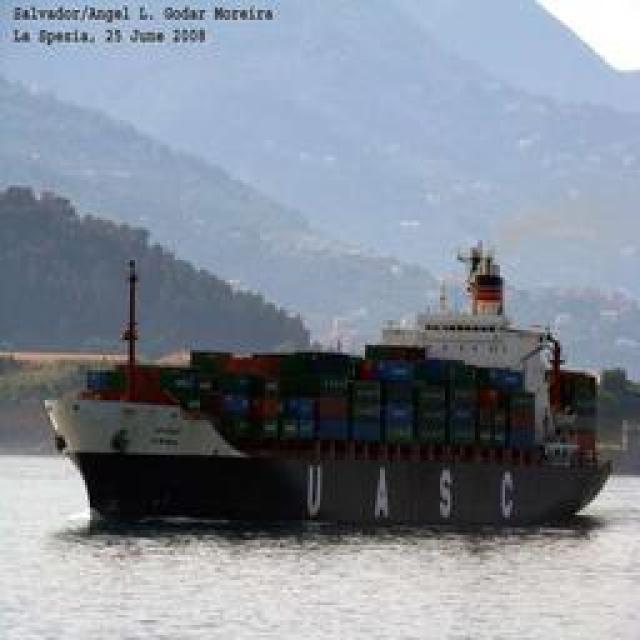CIV_Ship: (55, 231, 623, 524)
